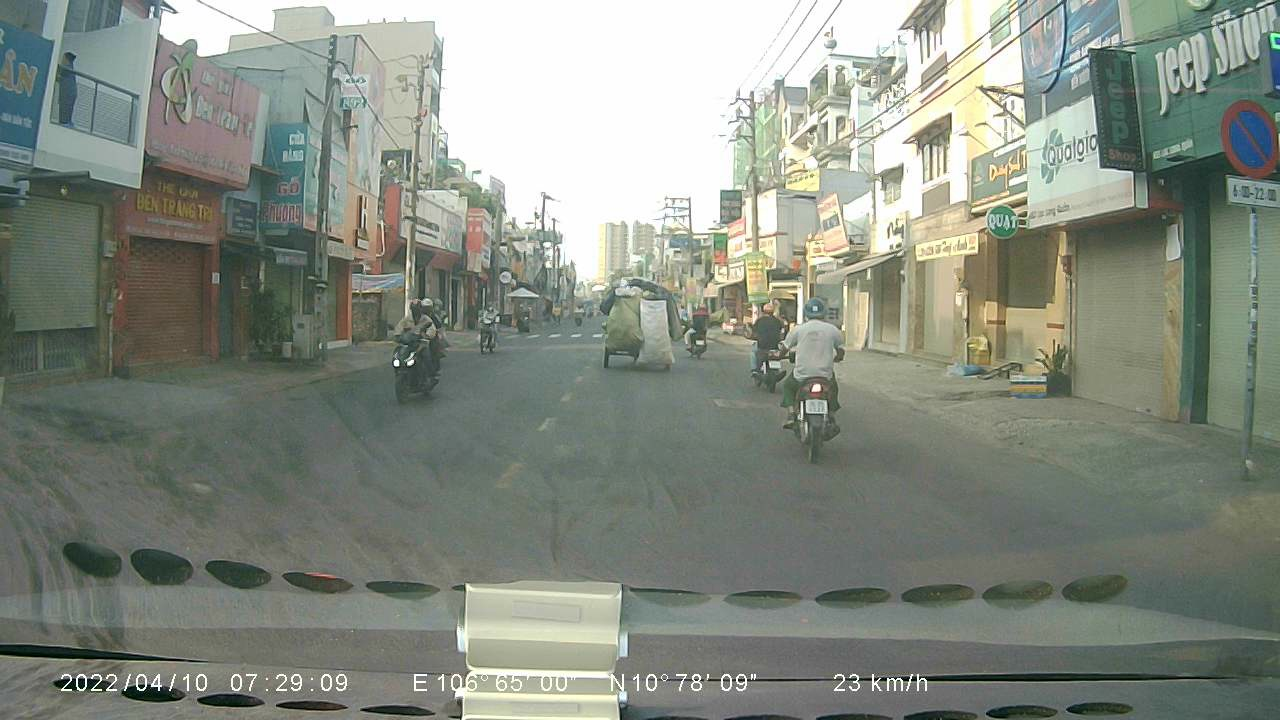Cam do xe: (1217, 93, 1280, 176)
